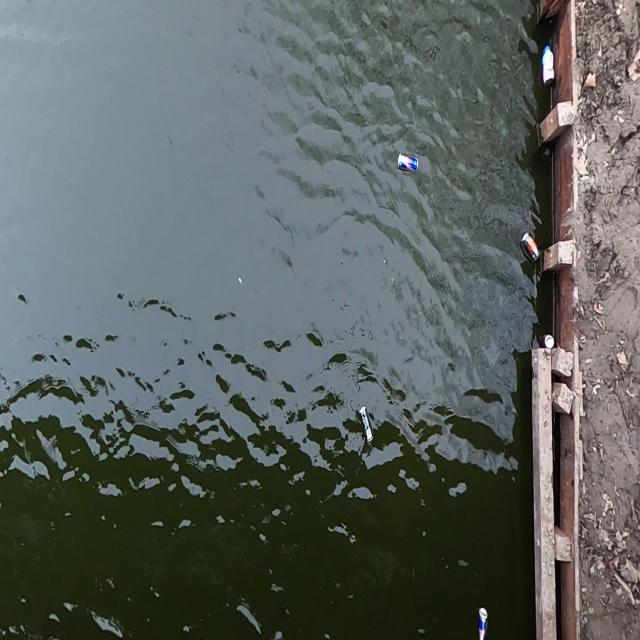Non plastique: (392, 145, 421, 186), (357, 399, 377, 452), (522, 227, 544, 274), (472, 587, 488, 640)
